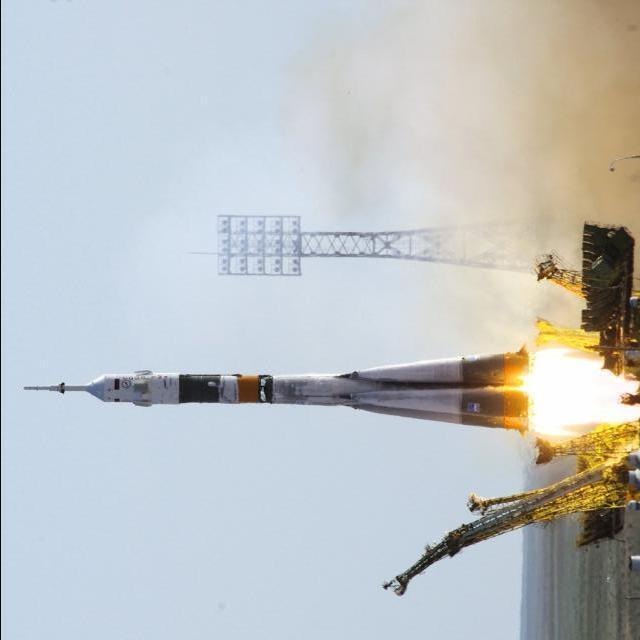missile: (28, 348, 536, 440)
